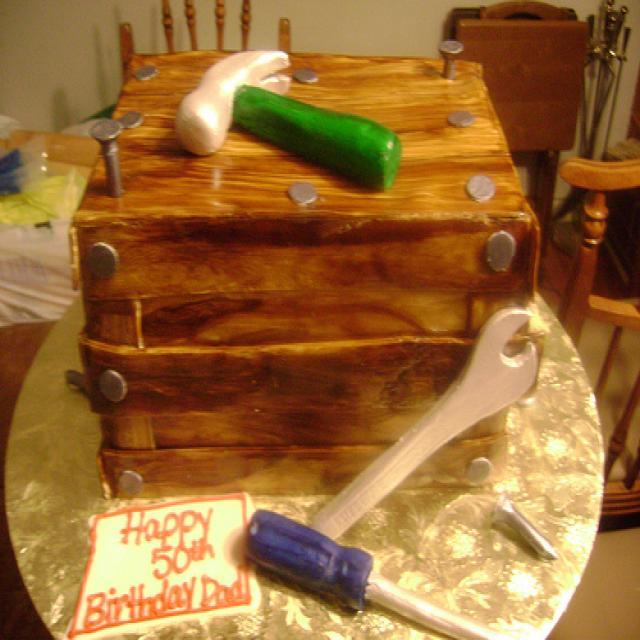hammer: (170, 45, 404, 193)
screwdriver: (225, 489, 544, 640)
wrench: (321, 302, 548, 550)
